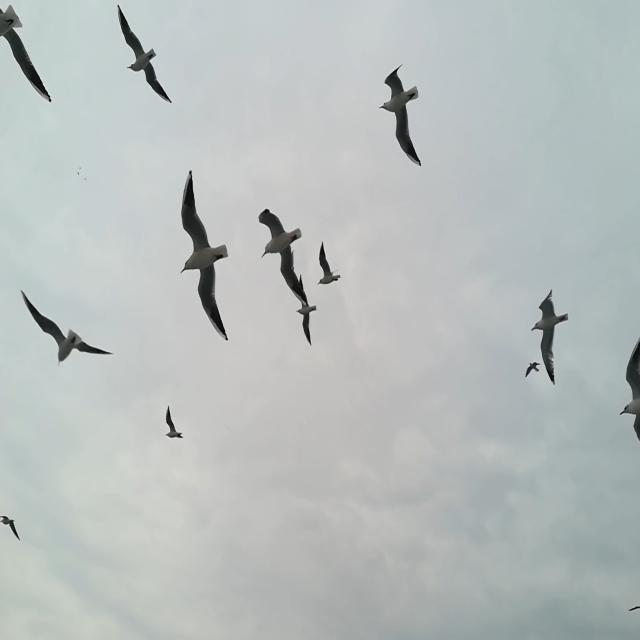bird: (180, 170, 228, 344), (18, 289, 118, 367), (115, 5, 176, 106), (1, 2, 53, 105), (257, 206, 309, 308), (379, 66, 421, 168), (530, 292, 569, 389), (619, 323, 640, 443), (296, 272, 316, 346), (317, 241, 340, 285), (0, 511, 23, 541), (166, 407, 183, 439), (524, 356, 542, 380), (627, 603, 638, 611), (77, 171, 80, 177), (78, 166, 82, 170), (84, 176, 87, 181)
